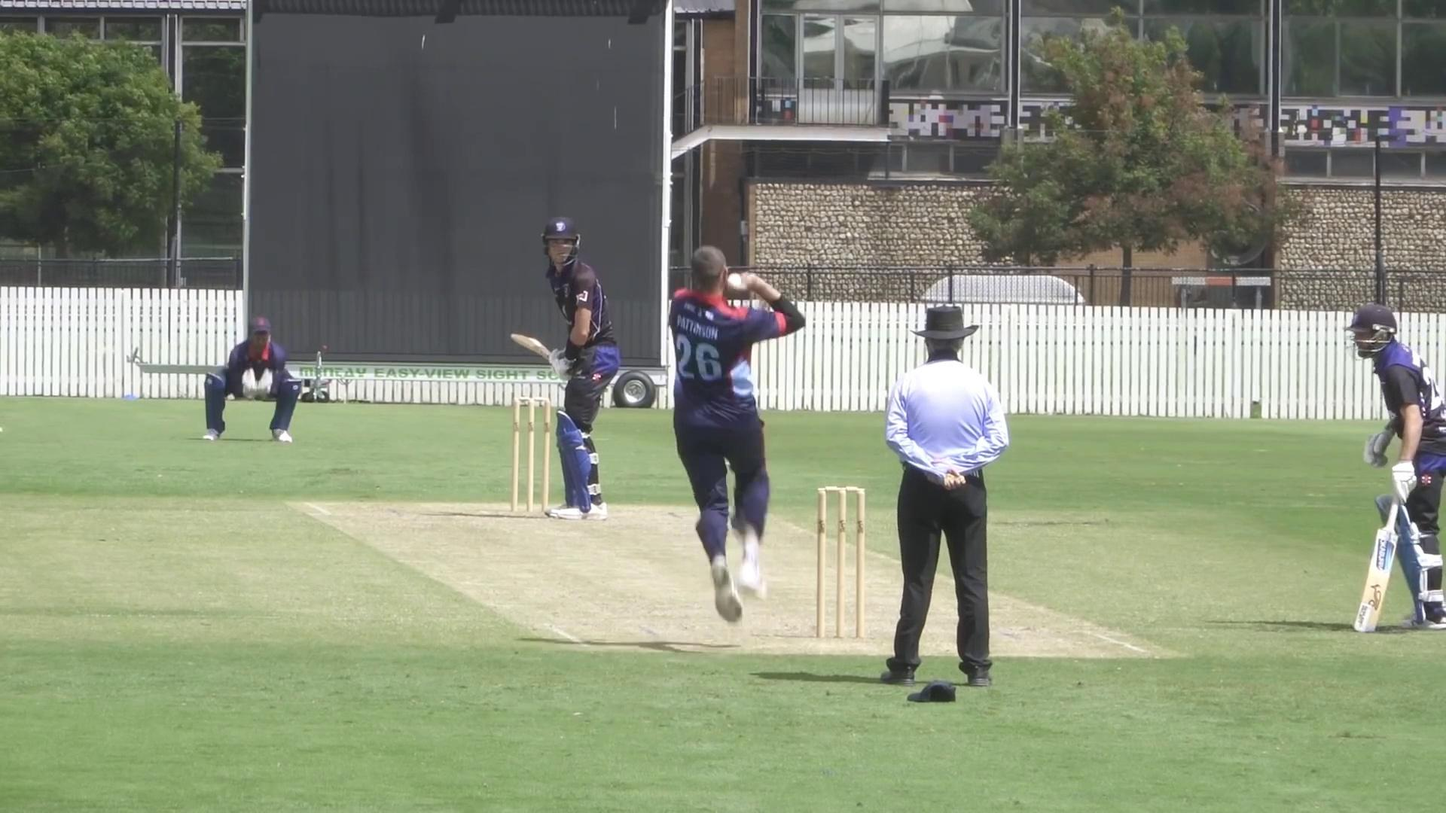ball: (724, 270, 746, 296)
